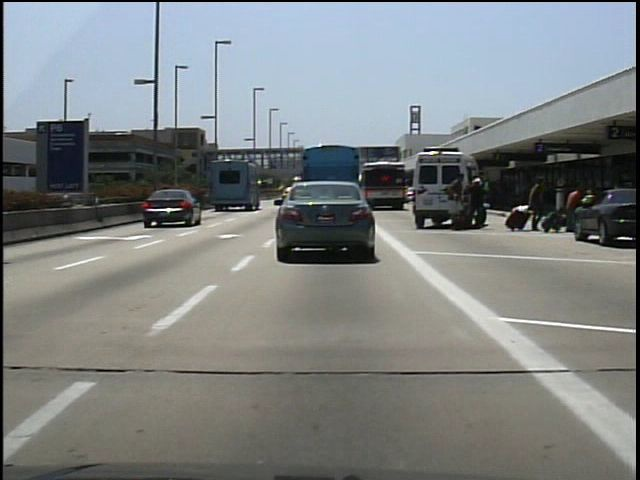person: (526, 172, 551, 237), (443, 169, 468, 232), (466, 174, 489, 230), (565, 181, 581, 221)
